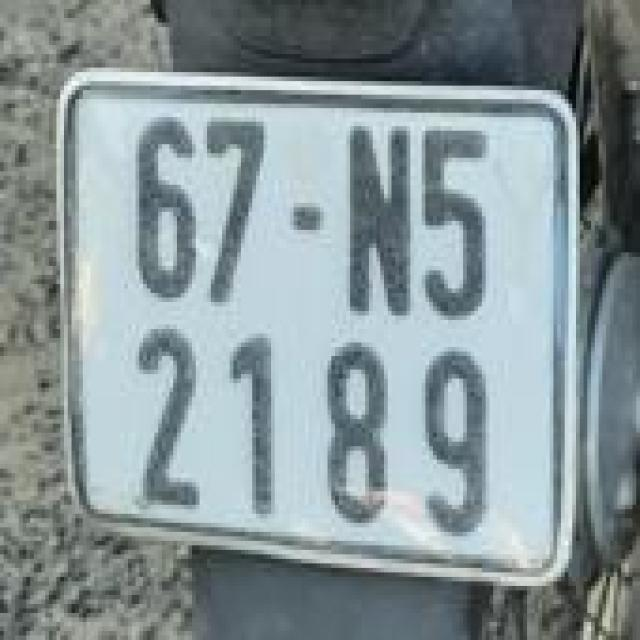1: (224, 324, 284, 528)
2: (124, 320, 207, 518)
5: (418, 113, 493, 329)
6: (128, 110, 203, 309)
7: (202, 97, 270, 313)
8: (318, 329, 397, 527)
9: (416, 340, 495, 552)
N: (342, 115, 418, 322)
